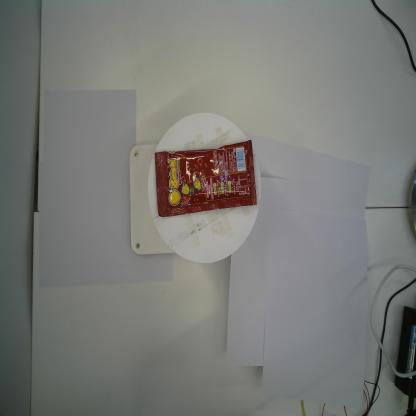Candy: (152, 139, 257, 216)
